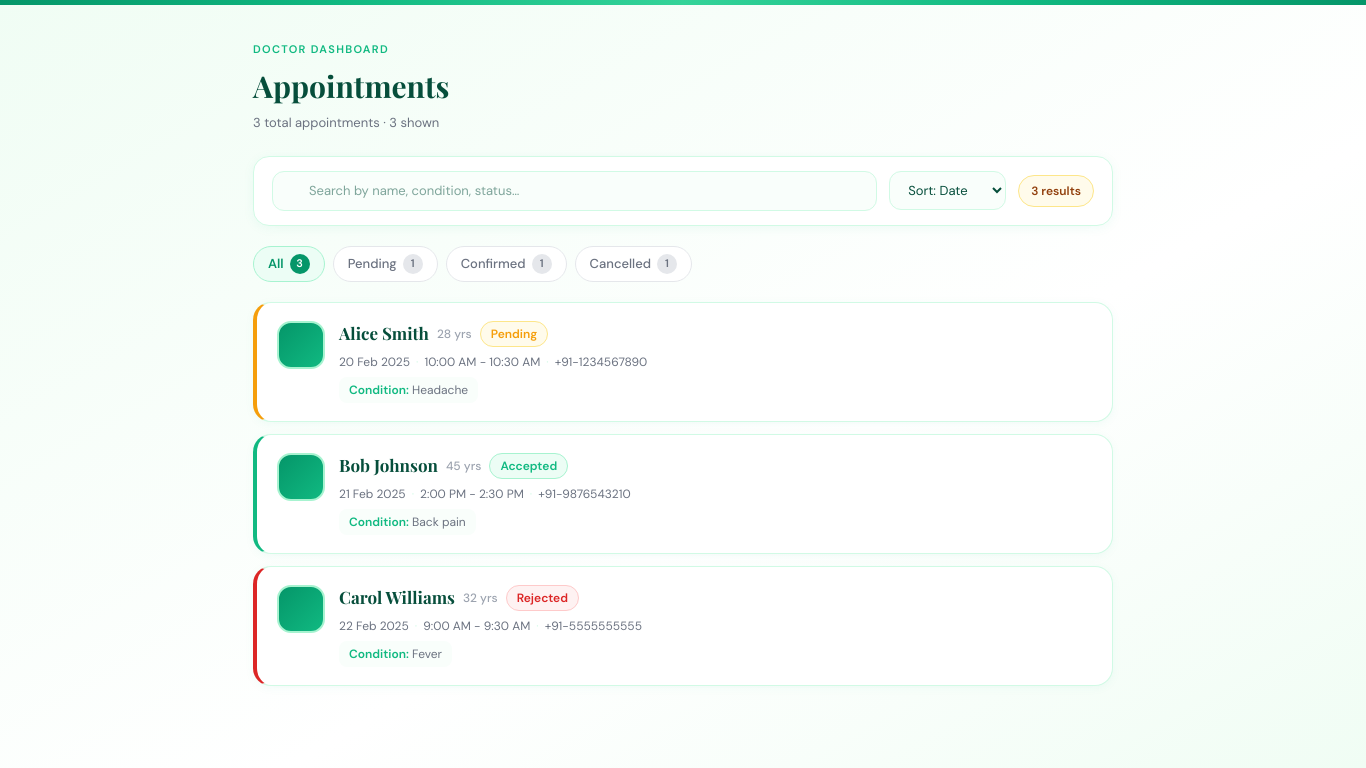
Test case: AppointmentsTab Component › Status Pill Filtering › filters to show cancelled/rejected appointments
The width and height of the screenshot is (1366, 768).
Step 1. Click the button "Cancelled 1" → {"x": 633, "y": 264}, box left=575, top=246, right=692, bottom=282
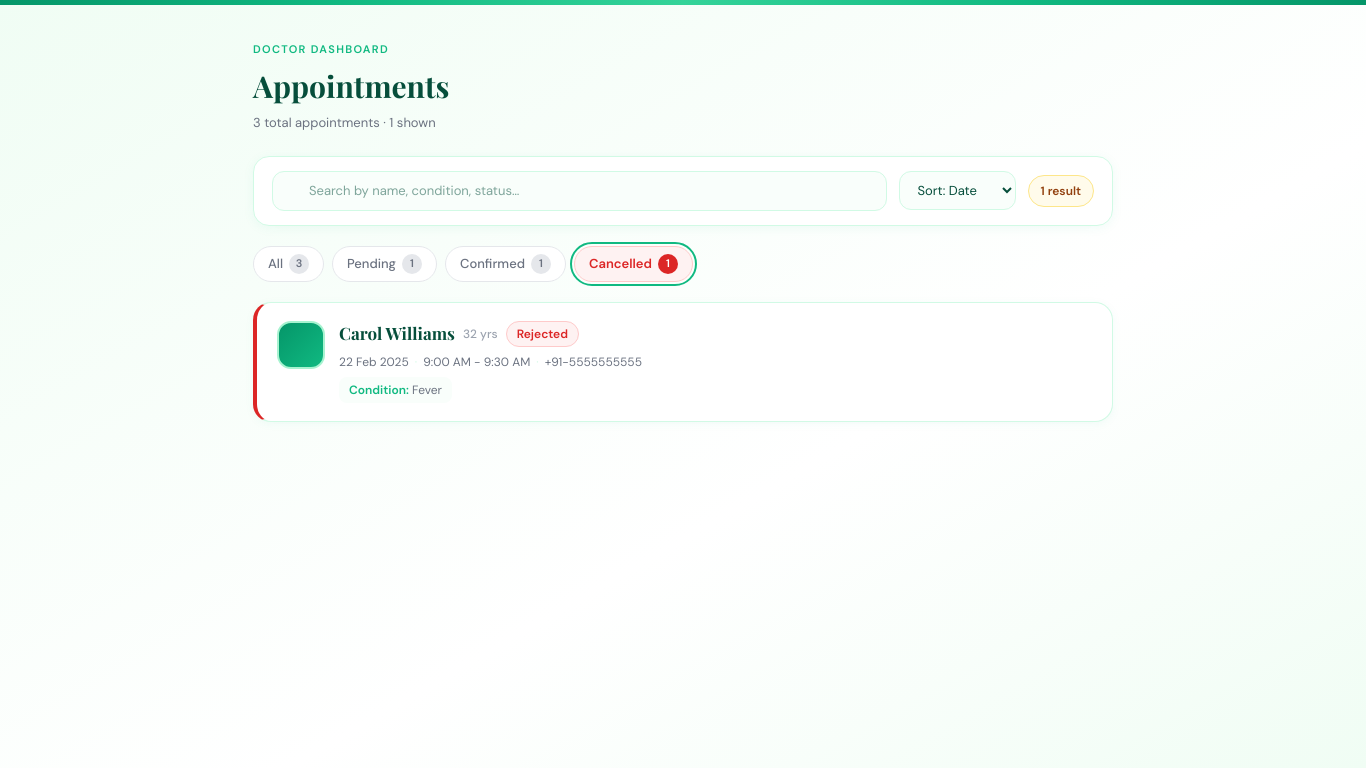
Expected: the text "Carol Williams" is shown, left=339, top=321, right=455, bottom=346
Expected: the text "Alice Smith" is gone
Expected: the text "Bob Johnson" is gone
